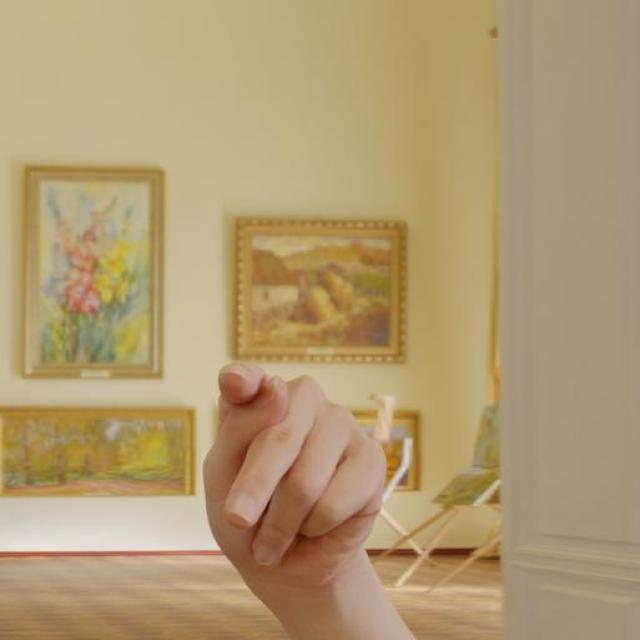P: (199, 360, 390, 584)
